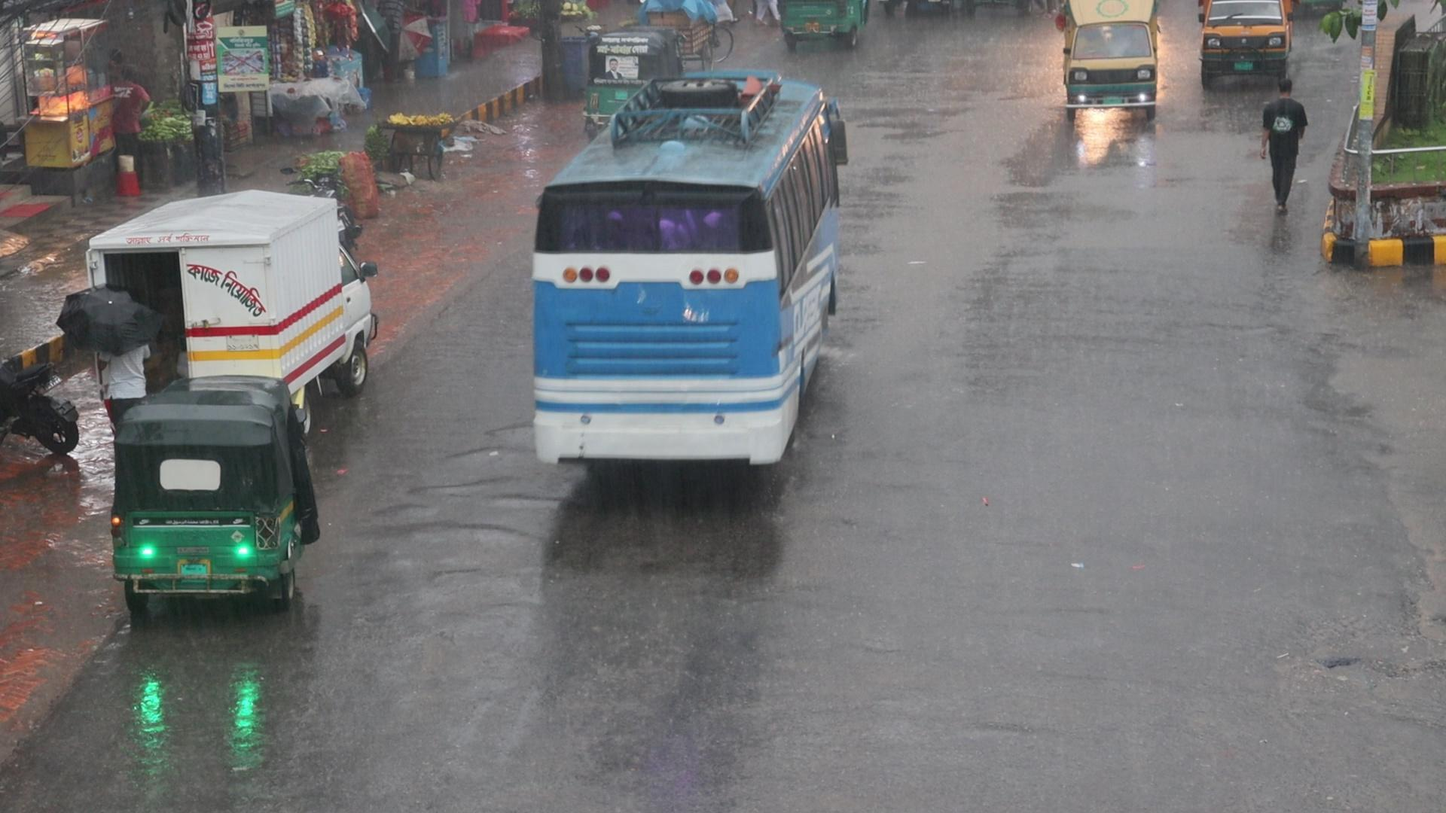Bus: (520, 70, 857, 496)
Truck: (1067, 0, 1164, 117), (1199, 6, 1293, 89)
